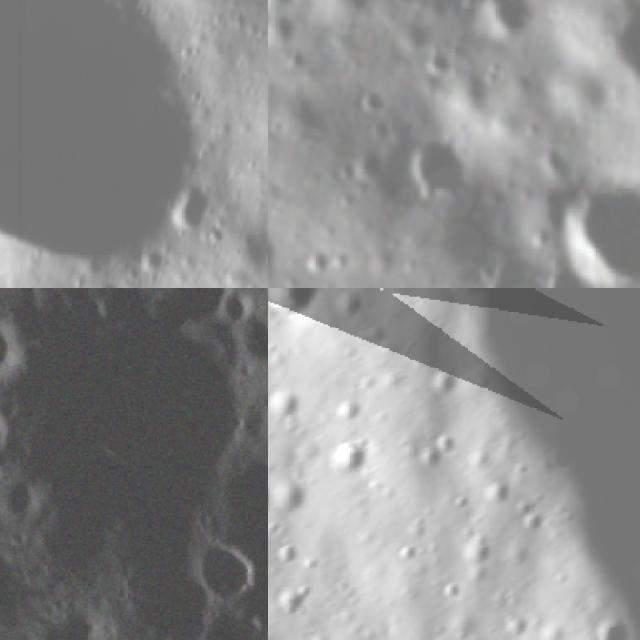crater: (0, 0, 225, 288), (549, 162, 640, 288), (179, 512, 268, 612), (392, 123, 474, 211), (468, 0, 556, 56), (0, 288, 42, 405), (186, 590, 268, 640), (223, 288, 268, 374), (0, 461, 55, 526), (165, 182, 218, 241), (323, 428, 370, 478), (206, 288, 260, 328), (268, 288, 325, 325), (270, 577, 314, 621), (349, 145, 390, 189), (347, 83, 389, 123), (449, 530, 496, 564), (0, 391, 20, 467), (585, 609, 634, 640), (426, 364, 464, 396), (268, 383, 300, 420), (432, 424, 464, 458), (512, 507, 550, 534), (478, 478, 512, 505), (502, 608, 530, 640), (269, 536, 302, 562), (436, 575, 466, 601), (392, 538, 422, 564), (504, 495, 536, 514), (417, 441, 439, 468), (547, 562, 570, 587), (302, 625, 336, 640), (405, 507, 428, 529), (447, 490, 469, 511), (298, 551, 318, 572), (268, 513, 281, 533)
